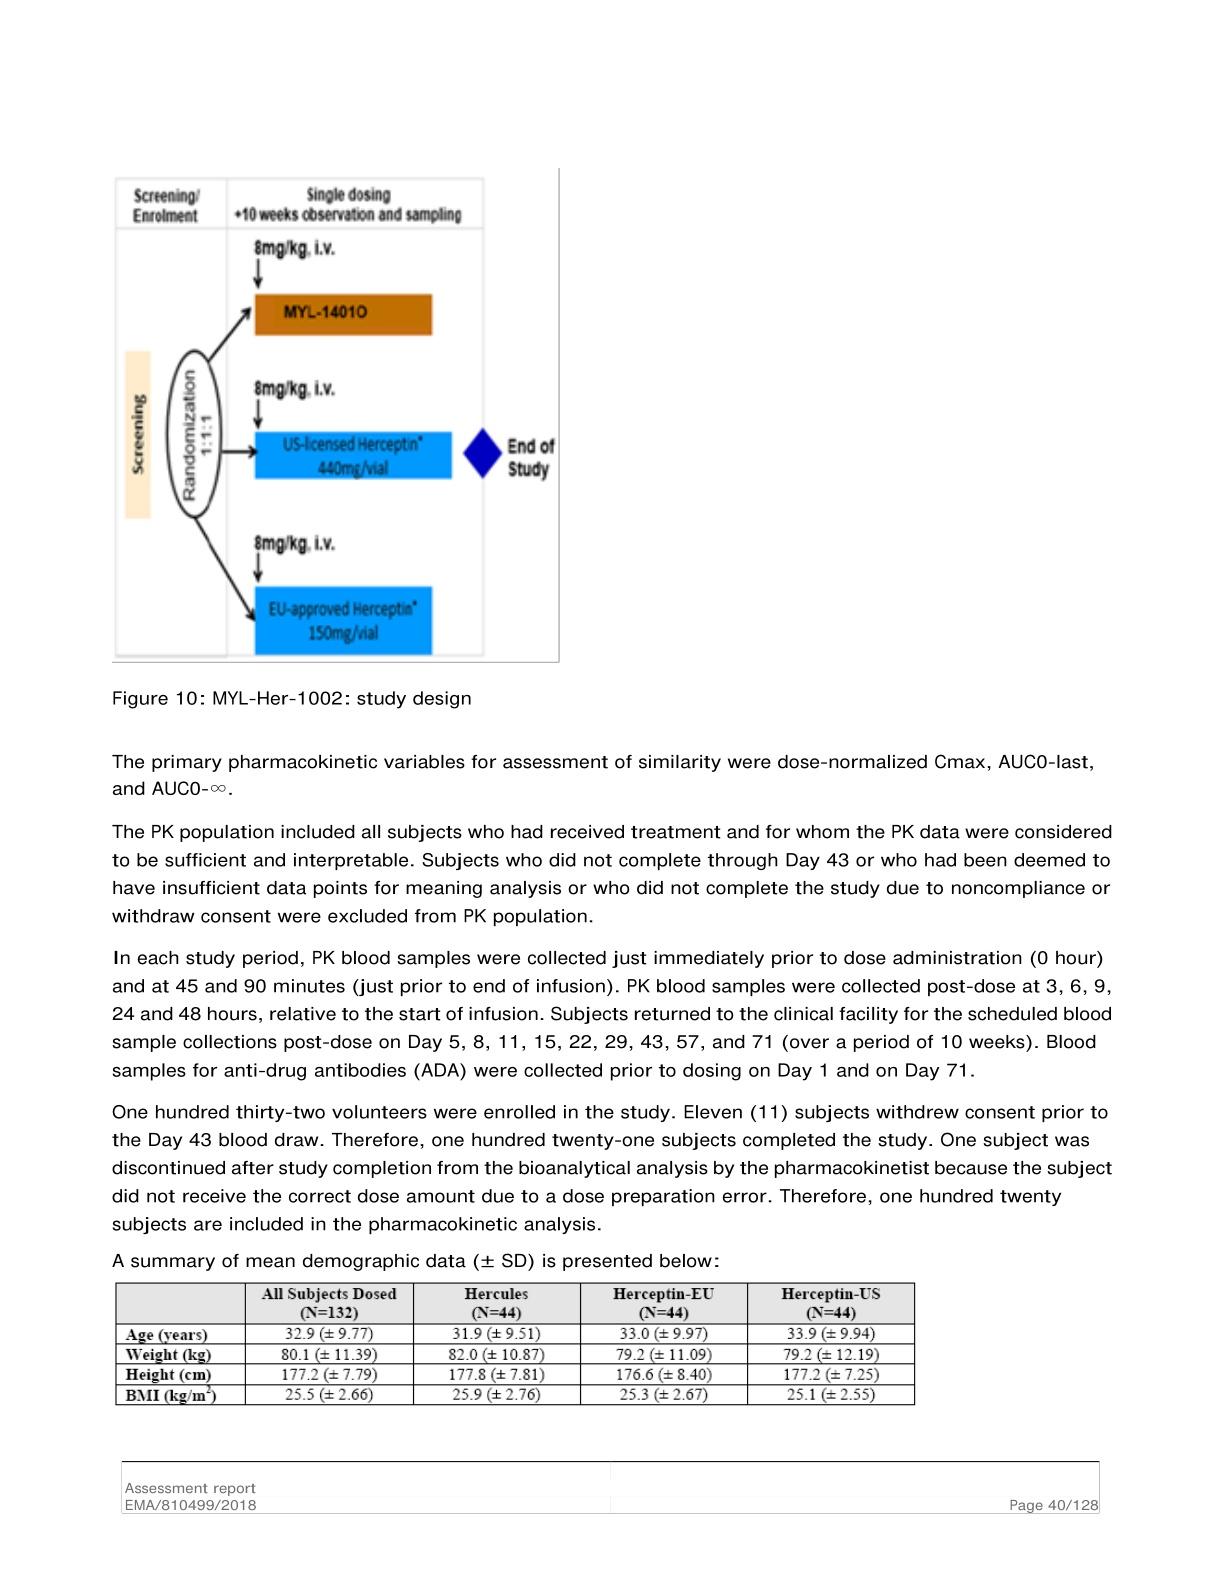full_lined: (114, 1281, 915, 1407)
